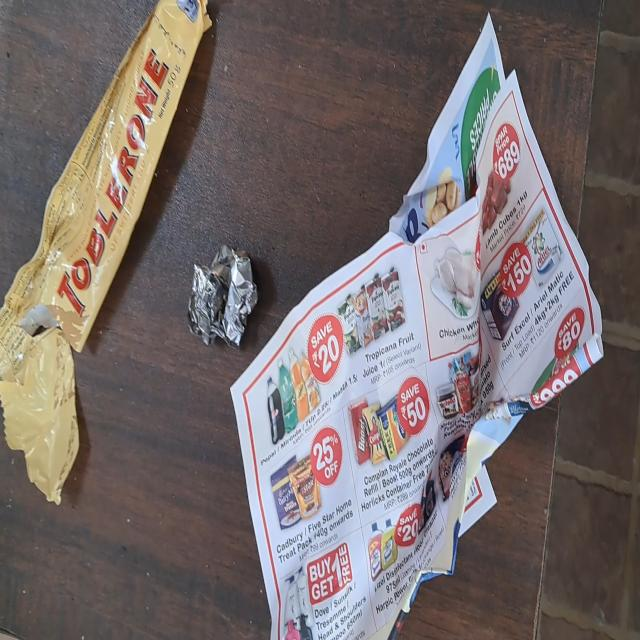Anorganik: (0, 3, 182, 461), (184, 245, 258, 350)
Organik: (292, 8, 602, 490)
